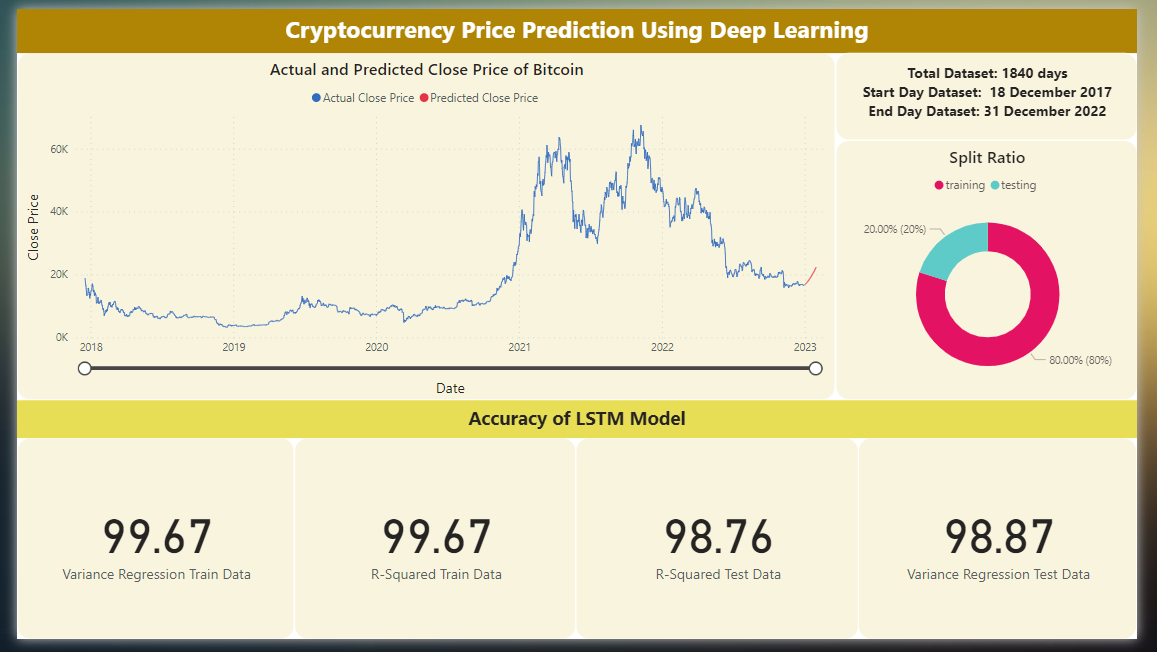

This screenshot's page, from the dashboard's own definition file:
{"tool":"powerbi","page":{"name":"Page 1","canvas":[1280,720],"ordinal":0},"visuals":[{"type":"lineChart","title":"Actual and Predicted Close Price of Bitcoin","fields":{"Category":["actual and predicted price.date"],"Y":["Sum(actual and predicted price.actual close price)","Sum(actual and predicted price.predicted close price)"]},"box":[0,50,935,396.7],"z":0},{"type":"textbox","box":[0,0,1280,50],"z":1000},{"type":"donutChart","title":"Split Ratio","fields":{"Category":["split ratio.split"],"Y":["Sum(split ratio.number)"]},"box":[935,150,345,296.7],"z":2000},{"type":"card","fields":{"Values":["Sum(eva.vrs tr)"]},"box":[0,490,316.7,230],"z":3000},{"type":"card","fields":{"Values":["Sum(eva.vrs te)"]},"box":[961.7,490,318.3,230],"z":4000},{"type":"card","fields":{"Values":["Sum(eva.r2 tr)"]},"box":[316.7,490,321.7,230],"z":5000},{"type":"card","fields":{"Values":["Sum(eva.r2 te)"]},"box":[638.3,490,323.3,230],"z":6000},{"type":"textbox","box":[0,446.7,1280,43.3],"z":7000},{"type":"textbox","box":[935,50,345,100],"z":8000}]}

Visuals, with their boxes in screenshot pixels (x1, y1, x2, y2), scaled from the page's 1280x720 canvas onto the 1157x652 screenshot:
"Actual and Predicted Close Price of Bitcoin" lineChart: 0/45/845/405
textbox: 0/0/1156/45
"Split Ratio" donutChart: 845/136/1156/405
card - Sum(eva.vrs tr): 0/444/286/651
card - Sum(eva.vrs te): 869/444/1156/651
card - Sum(eva.r2 tr): 286/444/577/651
card - Sum(eva.r2 te): 577/444/869/651
textbox: 0/405/1156/444
textbox: 845/45/1156/136
